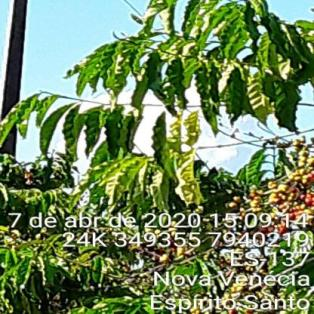Poste: (0, 0, 49, 162)
